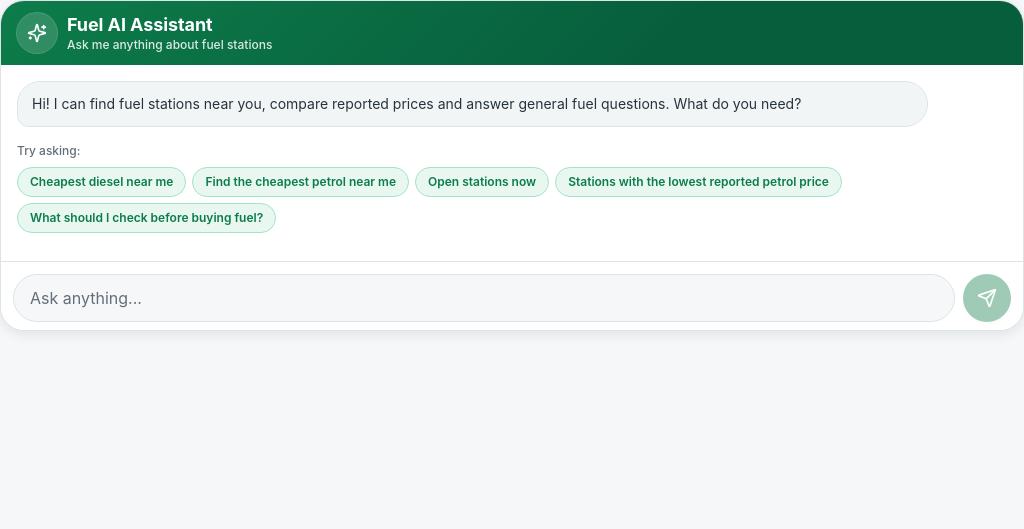
Scenario: location honesty › honours the backend needs_location safety net
Type "petrol" into the field named "Ask Fuel AI" at [484, 298], box [13,274,955,322]
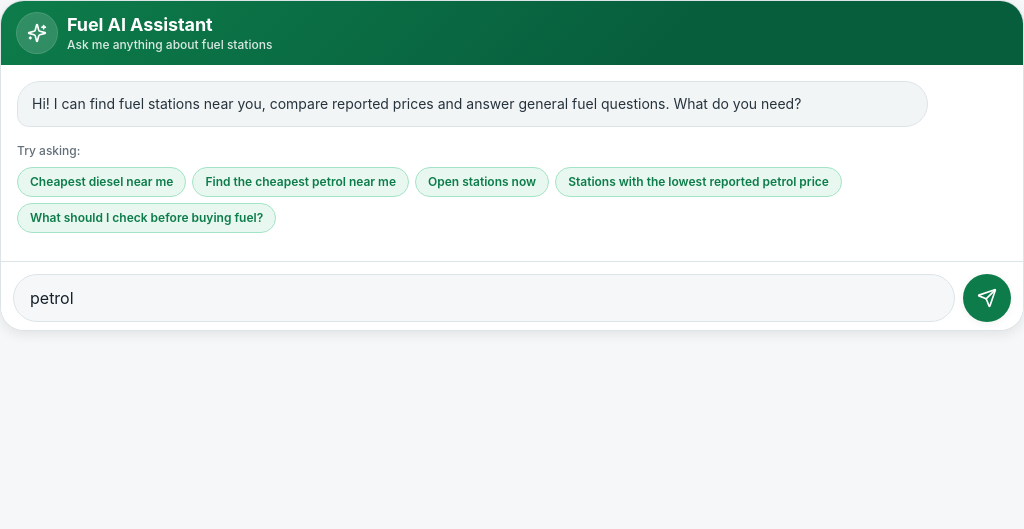
Click the button named "ask fuel ai" at [987, 298], box [963,274,1011,322]
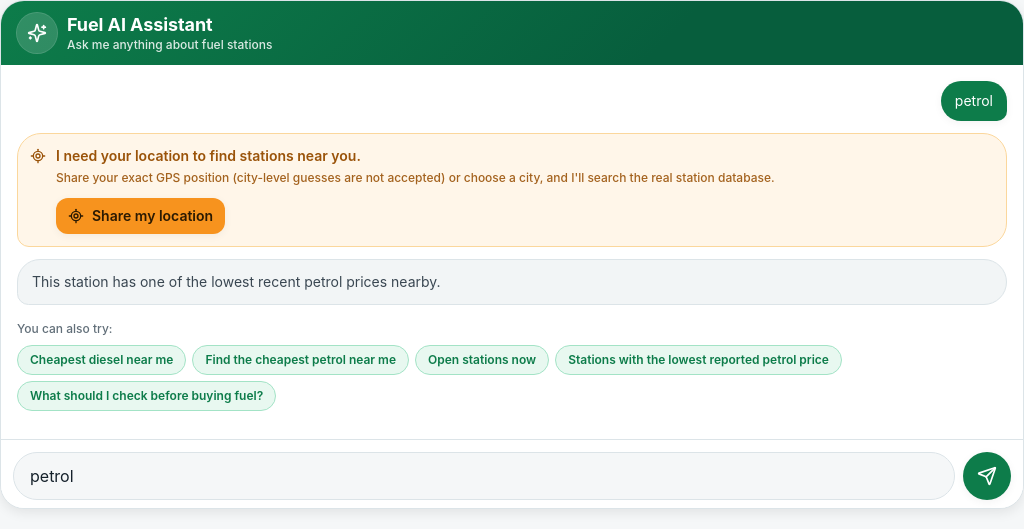
expect the text "I need your location to find stations near you." is shown: met, box [56,147,361,164]
